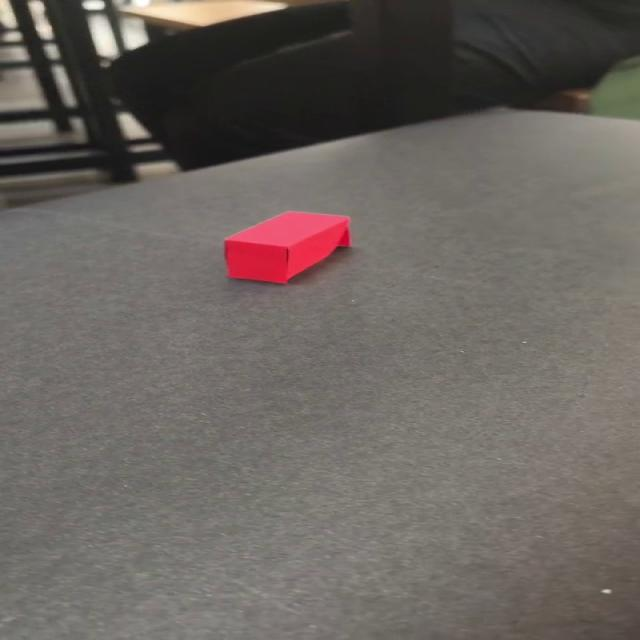red block: (221, 210, 351, 284)
